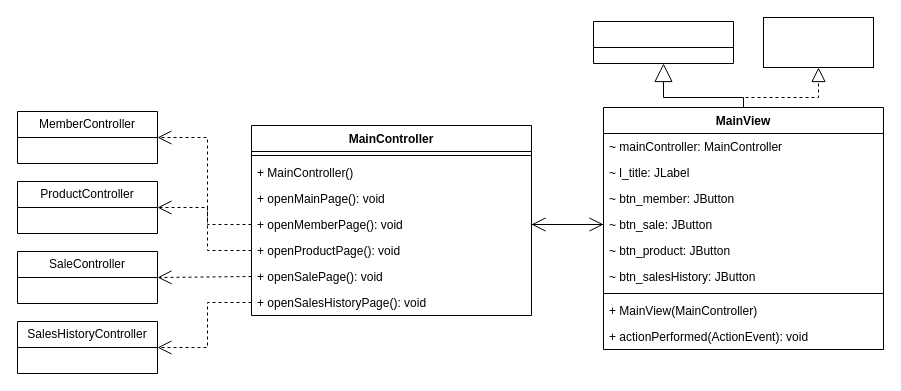
This 901x391 diagram has some shape labels left out. The shapes that lost their labels are listed below. From the top down, each one's centre as x and y in pixels, then its label:
At (663,42): "JFrame".
At (818,42): "«interface» ActionListener".
